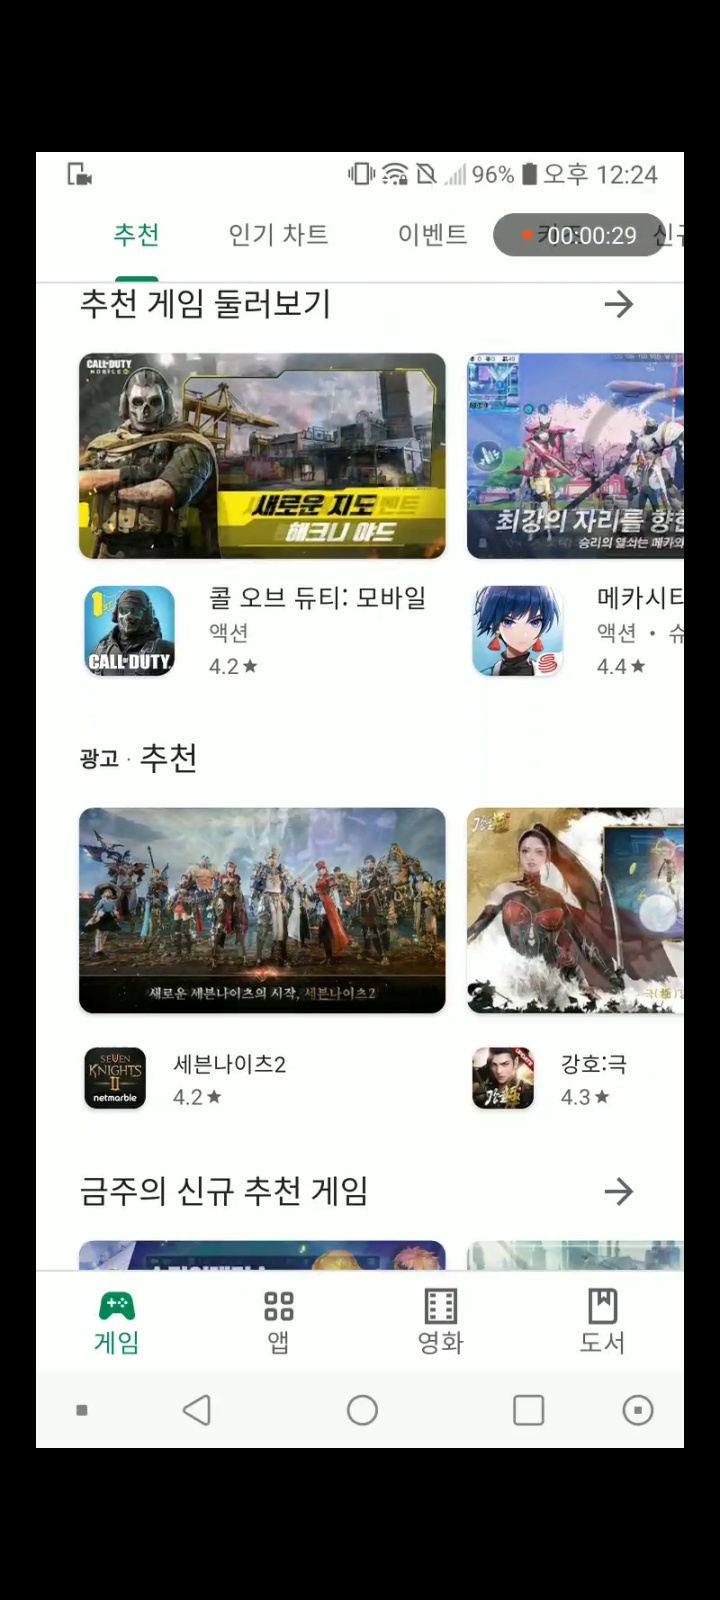Cursor: (636, 891, 681, 936)
